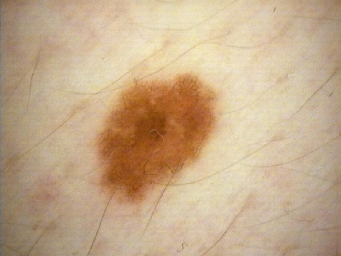nevus: (99, 76, 218, 198)
